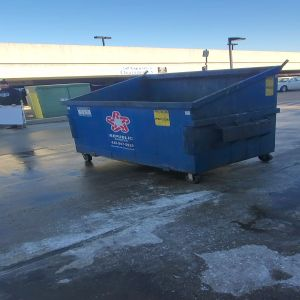Dumpster: (58, 69, 288, 186)
Person: (1, 77, 24, 106)
